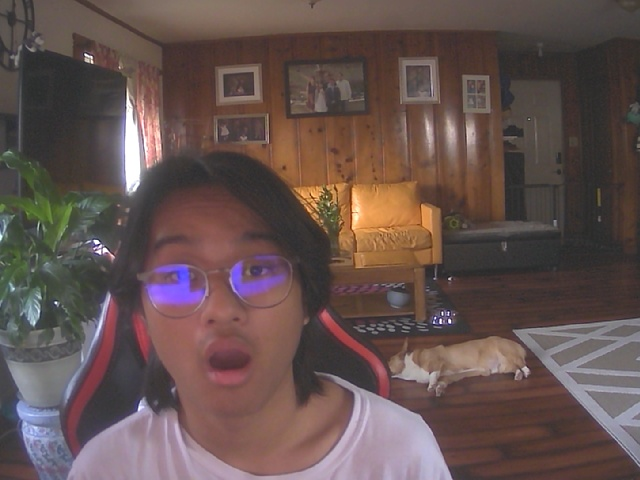fear: (131, 165, 312, 416)
